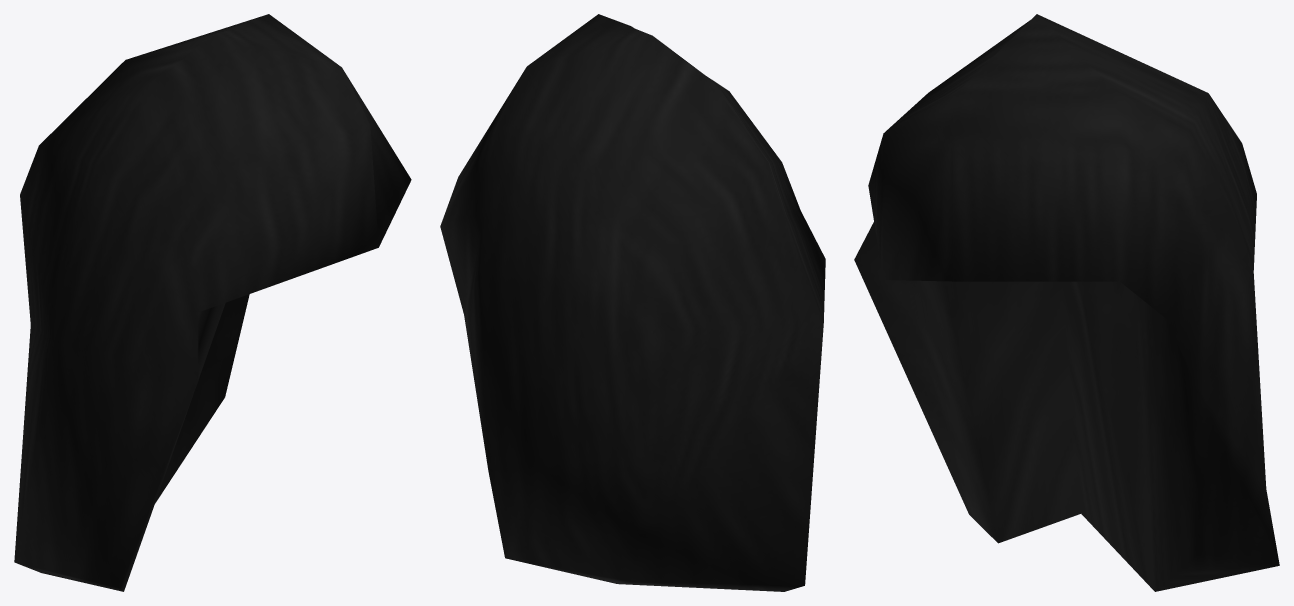
Rendered from bassdrop.glb.
3 renders of one model, left to right at view 1: azimuth 30°, elevation 25°; view 2: azimuth 150°, elevation 25°; view 3: azimuth 270°, elevation 25°, orthographic. The views are drawn at different scales.
Visible parts, largest first — view 1: Bass Drop; view 2: Bass Drop; view 3: Bass Drop.
Boxes of the visible parts, x1,y1,x2,y2 form: Bass Drop: [14, 14, 411, 591]; Bass Drop: [440, 14, 825, 591]; Bass Drop: [854, 14, 1279, 591].
Bounding box in the file's own units: 0.1878 × 0.2743 × 0.1797.
1 material, 1 textured.
